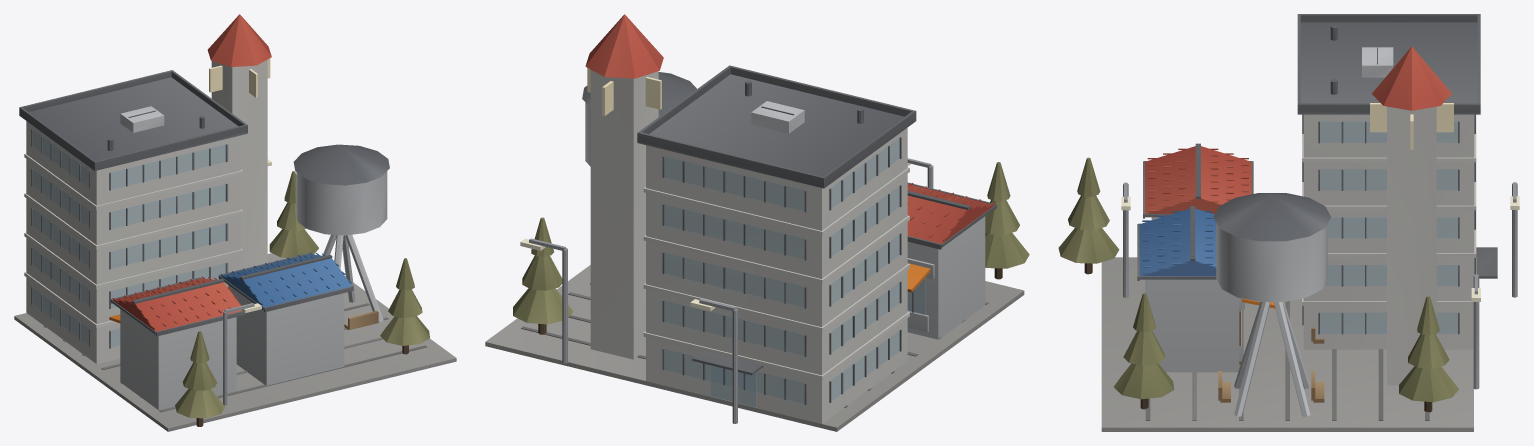
The model's file is Civic_P3.fbx.
The picture shows the model from 3 angles, left to right: view 1: azimuth 30°, elevation 25°; view 2: azimuth 150°, elevation 25°; view 3: azimuth 270°, elevation 25°; orthographic projection. The views are drawn at different scales.
Visible parts, largest first — view 1: Civic.Hall, Civic.Shop1, Civic.Shop0, Civic.Plaza, Civic.WaterTower, Civic.Tower, Civic.Tree2, Civic.Tree1, Civic.Tree0, Civic.Paving, Civic.Lamp0, Civic.Benches; view 2: Civic.Hall, Civic.Tower, Civic.Plaza, Civic.Shop0, Civic.Tree0, Civic.Tree2, Civic.WaterTower, Civic.Lamp1, Civic.Lamp2; view 3: Civic.Hall, Civic.Plaza, Civic.Tower, Civic.WaterTower, Civic.Shop1, Civic.Shop0, Civic.Tree2, Civic.Tree0, Civic.Tree1, Civic.Paving, Civic.Lamp1, Civic.Benches (+2 smaller).
Boxes of the visible parts, <box> form: Civic.Hall: <box>19,70,247,363</box>; Civic.Shop1: <box>218,252,353,385</box>; Civic.Shop0: <box>109,276,245,410</box>; Civic.Plaza: <box>14,253,456,431</box>; Civic.WaterTower: <box>293,144,389,322</box>; Civic.Tower: <box>207,14,271,269</box>; Civic.Tree2: <box>175,331,224,426</box>; Civic.Tree1: <box>380,258,429,354</box>; Civic.Tree0: <box>269,171,318,257</box>; Civic.Paving: <box>43,303,426,412</box>; Civic.Lamp0: <box>223,303,261,405</box>; Civic.Benches: <box>344,311,378,330</box>; Civic.Hall: <box>637,65,916,423</box>; Civic.Tower: <box>585,14,663,359</box>; Civic.Plaza: <box>485,265,1024,431</box>; Civic.Shop0: <box>907,182,996,339</box>; Civic.Tree0: <box>513,217,573,334</box>; Civic.Tree2: <box>985,162,1029,279</box>; Civic.WaterTower: <box>582,72,696,284</box>; Civic.Lamp1: <box>520,238,567,363</box>; Civic.Lamp2: <box>690,299,737,423</box>; Civic.Hall: <box>1297,14,1497,349</box>; Civic.Plaza: <box>1101,257,1473,431</box>; Civic.Tower: <box>1370,46,1453,385</box>; Civic.WaterTower: <box>1213,193,1330,416</box>; Civic.Shop1: <box>1137,206,1275,372</box>; Civic.Shop0: <box>1143,143,1253,309</box>; Civic.Tree2: <box>1058,157,1119,274</box>; Civic.Tree0: <box>1399,296,1458,412</box>; Civic.Tree1: <box>1114,293,1174,409</box>; Civic.Paving: <box>1145,280,1429,420</box>; Civic.Lamp1: <box>1471,274,1480,389</box>; Civic.Benches: <box>1218,327,1324,402</box>.
Bounding box in the file's own units: 2600 × 2371 × 2970.
